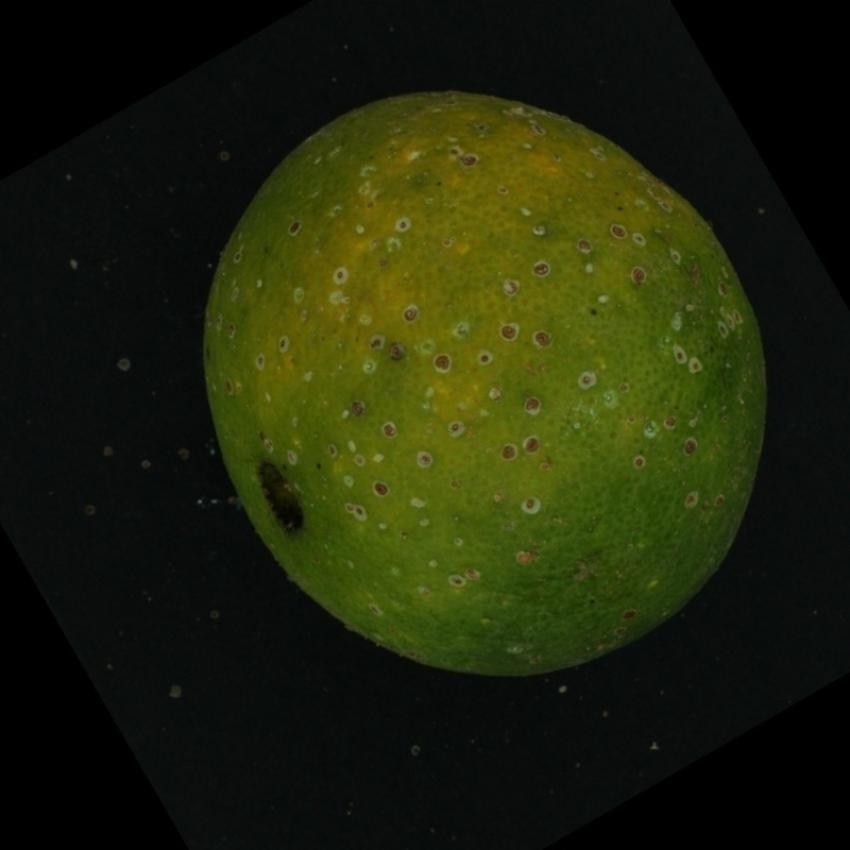Mal estado: (186, 78, 788, 677)
